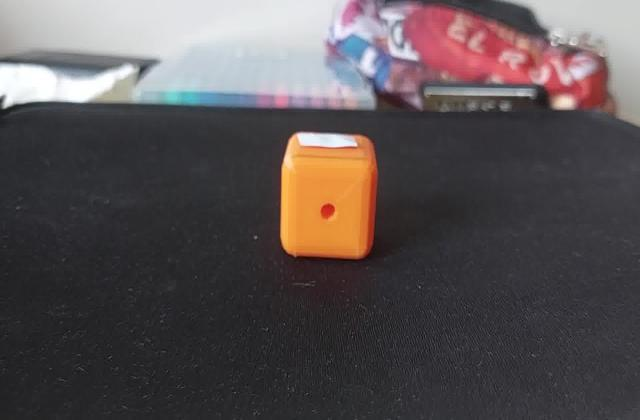cube: (276, 131, 384, 265)
white: (293, 132, 363, 154)
